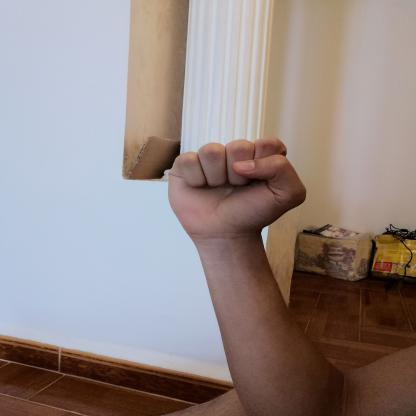SAD: (152, 124, 317, 246)
